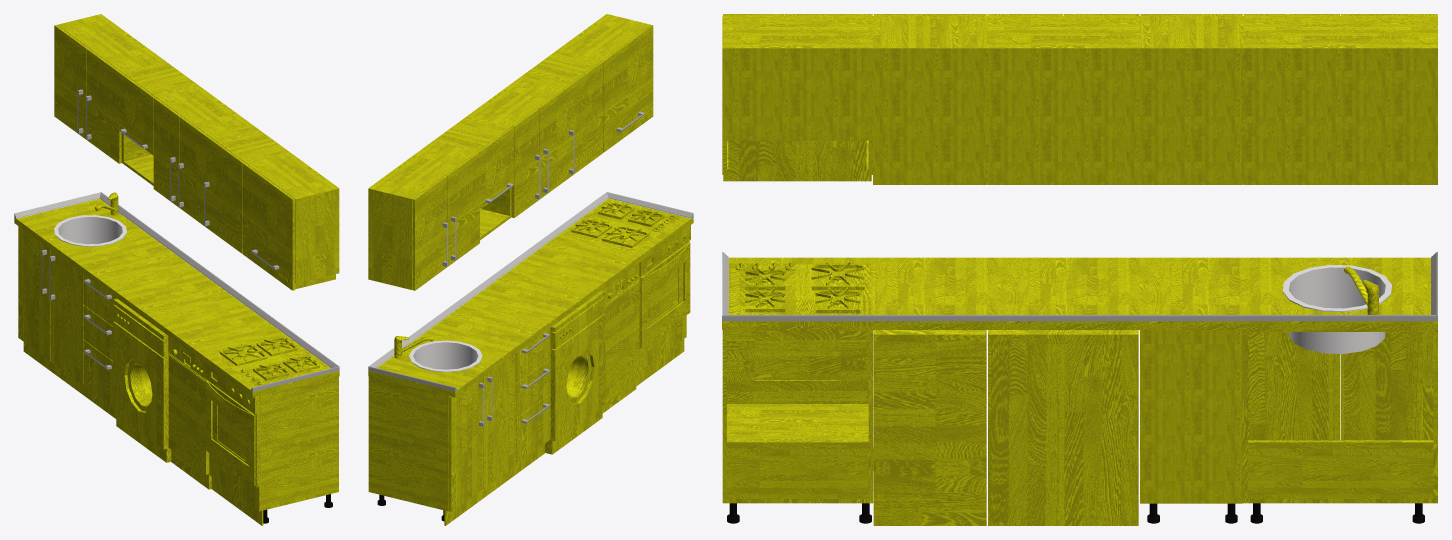
3 renders of one model, left to right at view 1: azimuth 30°, elevation 25°; view 2: azimuth 150°, elevation 25°; view 3: azimuth 270°, elevation 25°, orthographic. The views are drawn at different scales.
Parts seen in each view (by area): view 1: material-EGGER (×19), material-W (×9), material-Metal (×6), material-Paint (×4), material-Mtl_Aluminium (×3), material-Mtl_Chrome (×2), material-Glass, material-LS_GARNITURA; view 2: material-EGGER (×19), material-W (×8), material-Metal (×6), material-Paint (×4), material-Mtl_Aluminium (×3), material-Mtl_Chrome (×2), material-Glass, material-LS_GARNITURA; view 3: material-W (×19), material-EGGER (×4), material-Paint (×5), material-Metal (×3), material-Mtl_Chrome (×2), material-Mtl_Aluminium, material-Glass, material-LS_GARNITURA.
Boxes of the visible parts, left/top/right/bottom form: material-EGGER (×19): left=14, top=25, right=339, bottom=525; material-W (×9): left=57, top=14, right=339, bottom=511; material-Metal (×6): left=168, top=245, right=335, bottom=487; material-Paint (×4): left=113, top=298, right=171, bottom=462; material-Mtl_Aluminium (×3): left=14, top=192, right=339, bottom=391; material-Mtl_Chrome (×2): left=54, top=215, right=126, bottom=246; material-Glass: left=218, top=405, right=245, bottom=460; material-LS_GARNITURA: left=99, top=192, right=339, bottom=368; material-EGGER (×19): left=368, top=25, right=693, bottom=525; material-W (×8): left=368, top=14, right=650, bottom=508; material-Metal (×6): left=564, top=110, right=690, bottom=349; material-Paint (×4): left=545, top=290, right=605, bottom=454; material-Mtl_Aluminium (×3): left=368, top=192, right=693, bottom=391; material-Mtl_Chrome (×2): left=409, top=340, right=482, bottom=372; material-Glass: left=650, top=268, right=677, bottom=322; material-LS_GARNITURA: left=369, top=192, right=607, bottom=368; material-W (×19): left=722, top=16, right=1437, bottom=503; material-EGGER (×4): left=722, top=257, right=1437, bottom=525; material-Paint (×5): left=873, top=330, right=1138, bottom=525; material-Metal (×3): left=723, top=140, right=874, bottom=403; material-Mtl_Chrome (×2): left=1282, top=264, right=1392, bottom=353; material-Mtl_Aluminium: left=722, top=315, right=1437, bottom=321; material-Glass: left=755, top=330, right=840, bottom=380; material-LS_GARNITURA: left=722, top=315, right=1437, bottom=316.
Size of the model in its own units: 0.621 by 2.1 by 2.85.
Materials: 6 (1 with a texture image).
